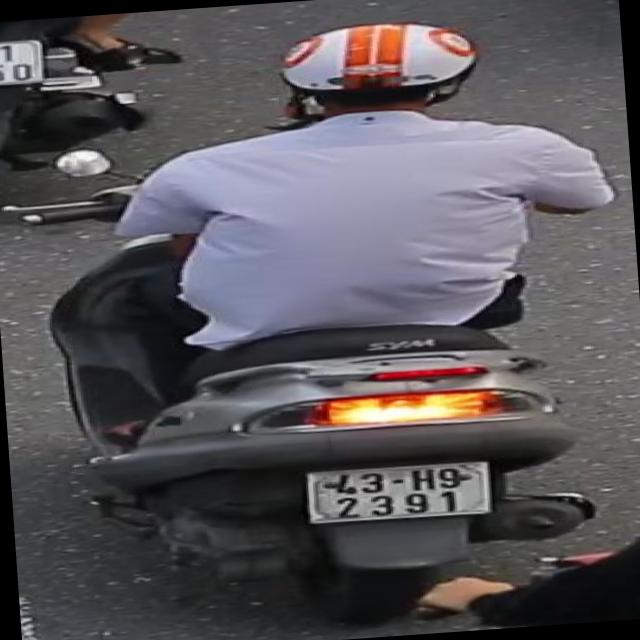LP: (292, 451, 502, 532)
helmet: (266, 11, 488, 132)
